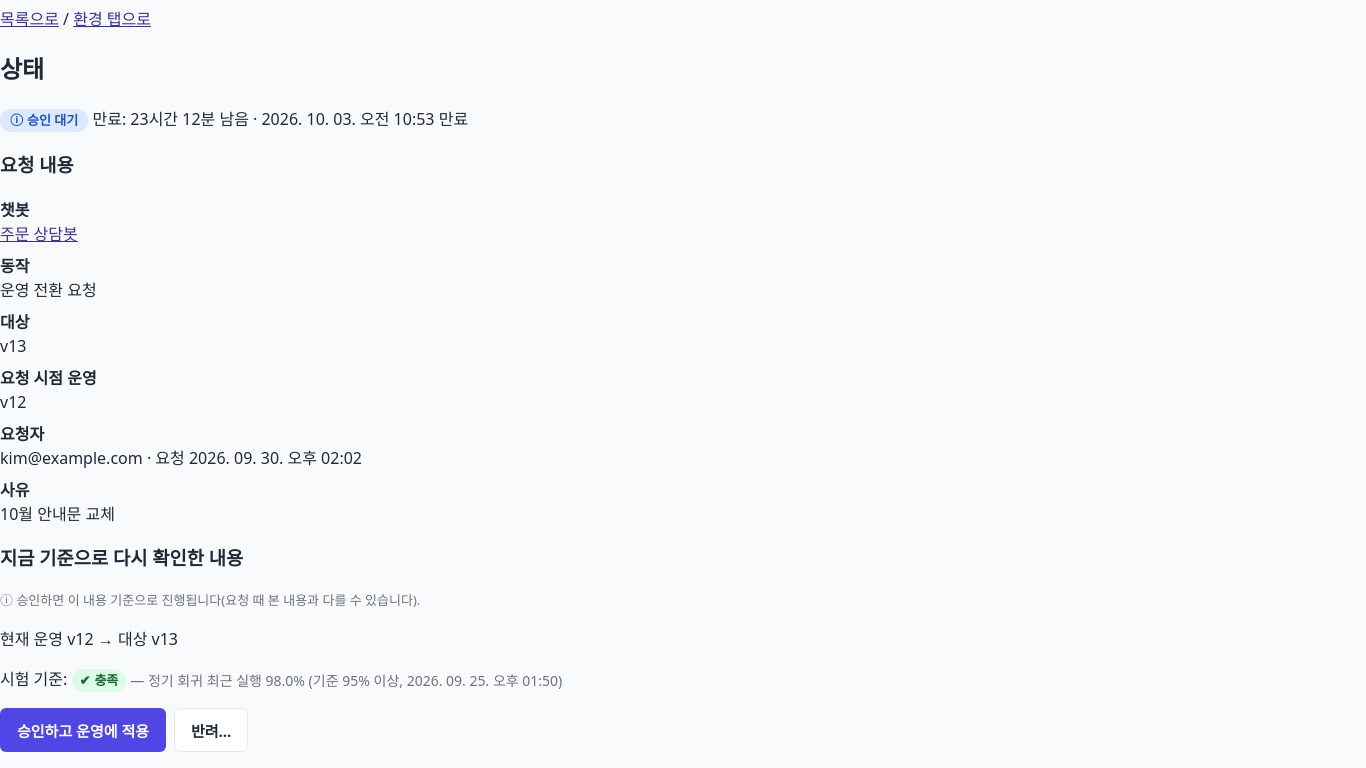
Test: AP-2 승인 요청 상세 › 승인 뒤 적용 실패(시험 기준 미달)는 "승인은 기록되었지만…" 배너를 보이고 결과를 다시 조회한다
(page scrolled)
Click the button "승인하고 운영에 적용" at [83, 730], box [0, 708, 166, 752]
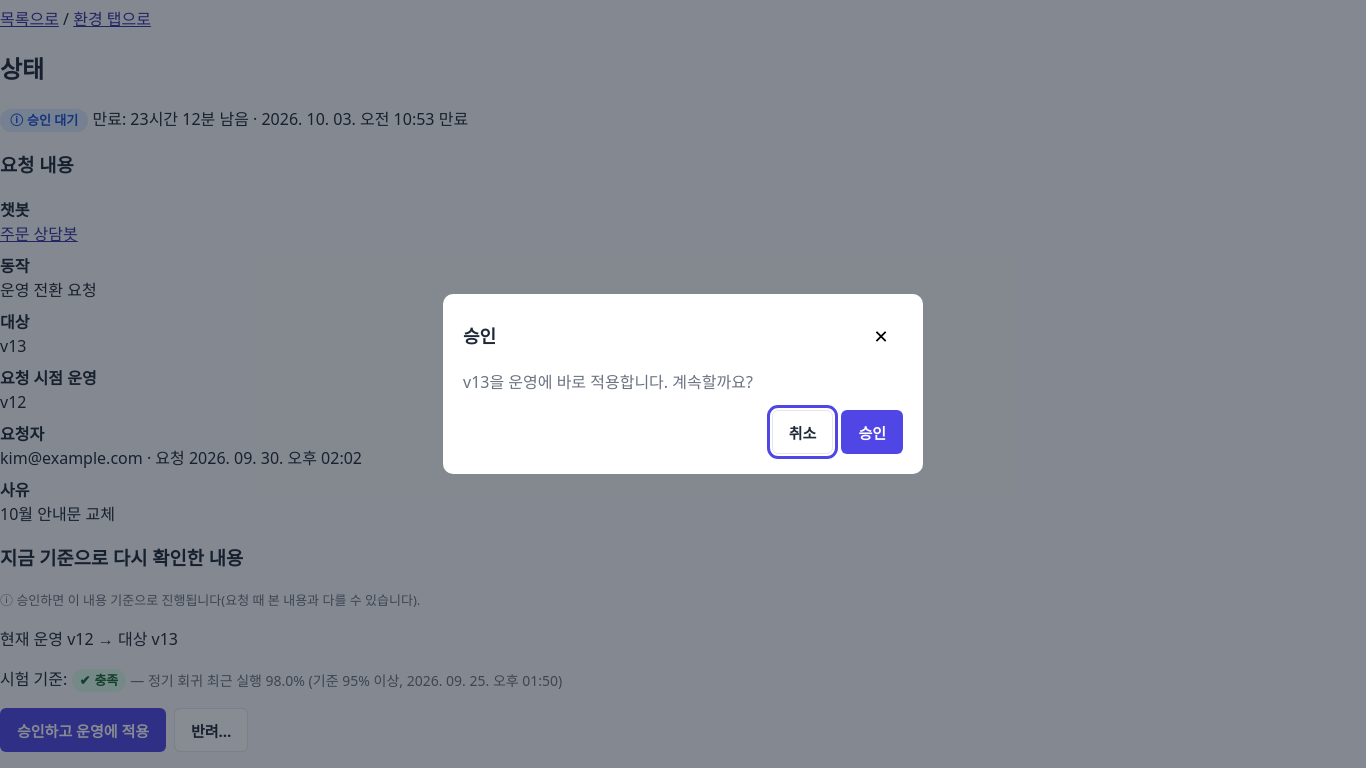
Click the button "승인" at [872, 432], box [841, 410, 903, 454]
(page scrolled)
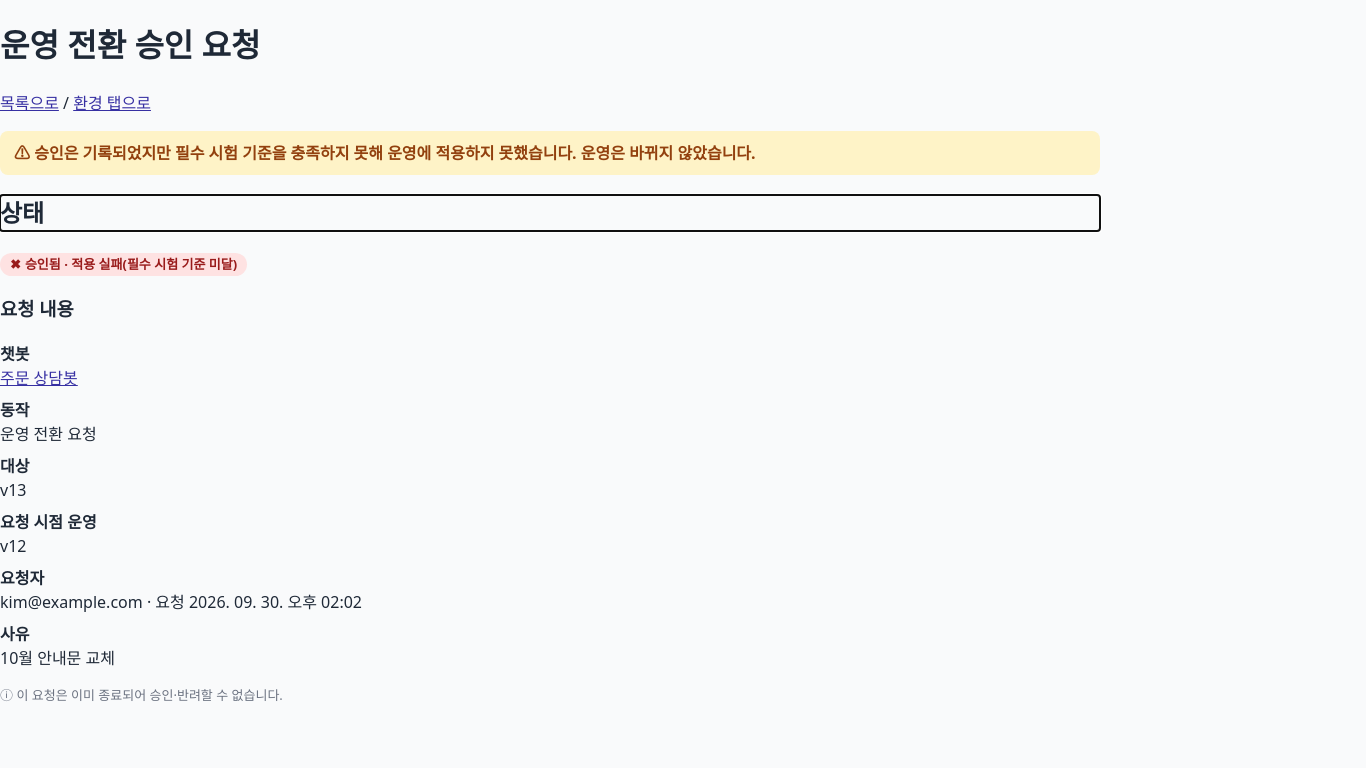
Check: the text "⚠ 승인은 기록되었지만 필수 시험 기준을 충족하지 못해 운영에 적용하지 못했습니다. 운영은 바뀌지 않았습니다." is shown, box [0, 131, 1100, 175]
Check: the text "승인됨 · 적용 실패(필수 시험 기준 미달)" is shown, box [25, 255, 237, 273]
